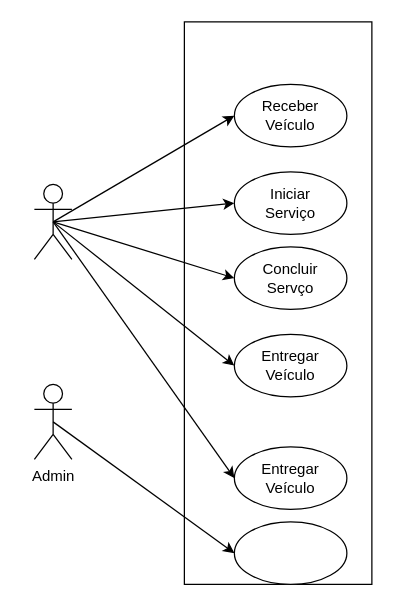
Some shapes in this 394 by 606 pixel diagram are drawn without their labels. The shapes that lost their labels are listed below. From the top down, each one's centre as x and y in pixels, then its label:
the point at 52,221: Operador
the point at 290,552: Cancelar Serviço
